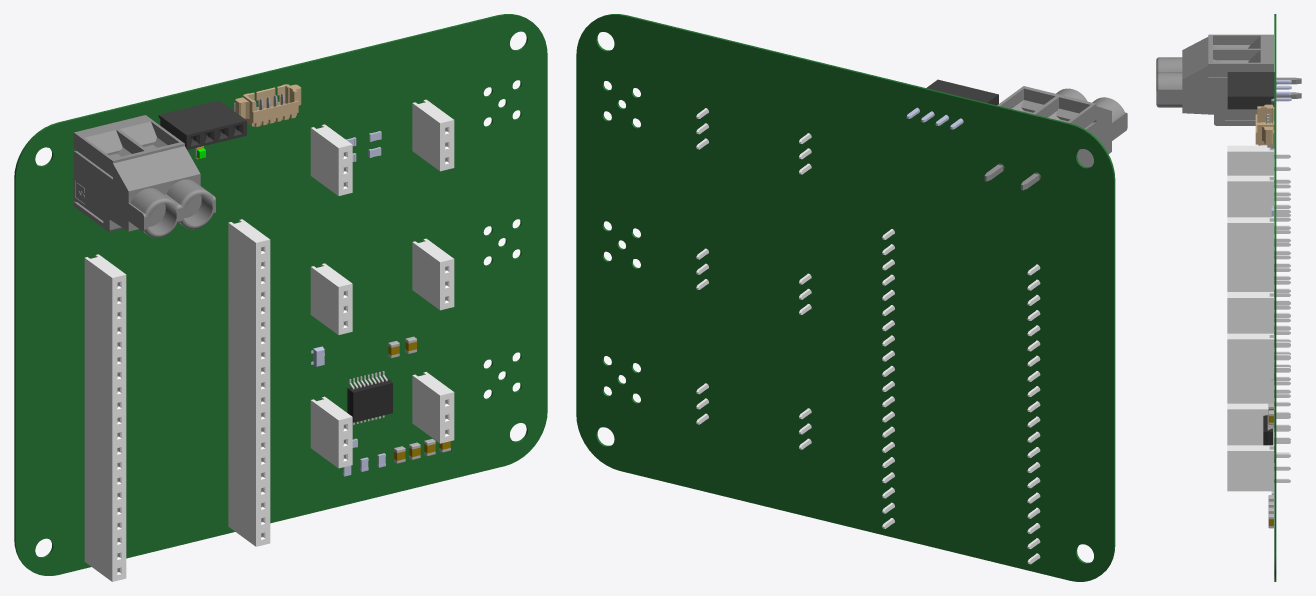
The model's file is brewbox1.0.glb.
3 renders of one model, left to right at view 1: azimuth 30°, elevation 25°; view 2: azimuth 150°, elevation 25°; view 3: azimuth 270°, elevation 25°, orthographic. The views are drawn at different scales.
Parts seen in each view (by area): view 1: empty_2, empty_135, empty_114, empty_75, empty_139, empty_14, empty_18, empty_89, empty_93, empty_143, empty_67, empty_42; view 2: empty_2, empty_75; view 3: empty_75, empty_114, empty_14, empty_89, empty_93, empty_18, empty_143, empty_2, empty_139, empty_135, empty_67, empty_78 (+5 smaller).
Part boxes in pixels (<box>): empty_2: <box>14,14,547,575</box>; empty_135: <box>84,254,126,581</box>; empty_114: <box>228,219,270,546</box>; empty_75: <box>73,115,215,237</box>; empty_139: <box>310,396,352,468</box>; empty_14: <box>412,99,454,171</box>; empty_18: <box>310,124,352,195</box>; empty_89: <box>412,372,454,443</box>; empty_93: <box>412,238,454,310</box>; empty_143: <box>310,263,352,334</box>; empty_67: <box>235,84,301,126</box>; empty_42: <box>347,379,392,422</box>; empty_2: <box>576,14,1115,581</box>; empty_75: <box>984,86,1127,190</box>; empty_75: <box>1156,34,1301,125</box>; empty_114: <box>1227,263,1273,403</box>; empty_14: <box>1227,217,1273,263</box>; empty_89: <box>1227,445,1273,491</box>; empty_93: <box>1227,333,1273,379</box>; empty_18: <box>1227,175,1273,217</box>; empty_143: <box>1227,292,1273,333</box>; empty_2: <box>1274,14,1276,581</box>; empty_139: <box>1227,403,1273,445</box>; empty_135: <box>1227,145,1273,175</box>; empty_67: <box>1255,104,1274,145</box>; empty_78: <box>1227,96,1274,109</box>.
Bounding box in the file's own units: 93.98 × 76.2 × 26.5.
